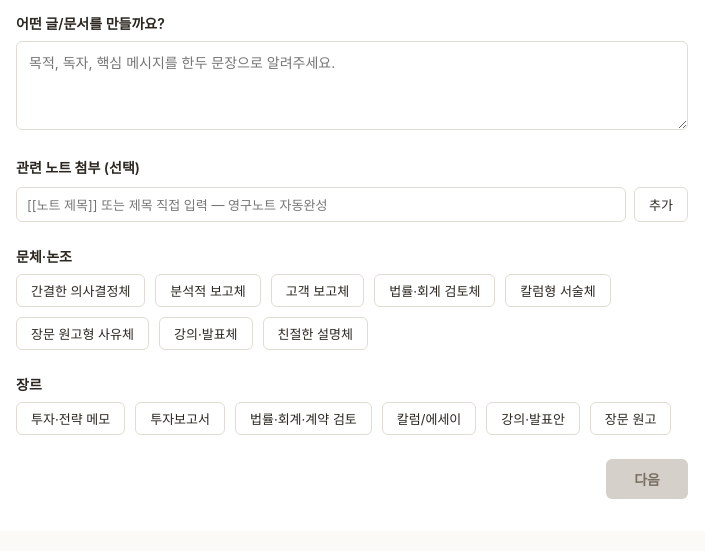
Test: Step1Seed — 노트 첨부 › 노트 입력 후 추가 버튼 클릭 시 chip이 나타난다
Replace the text in the field with test id "step1-note-input" with "[ [노트A]]" at (321, 205), box [16, 187, 626, 222]
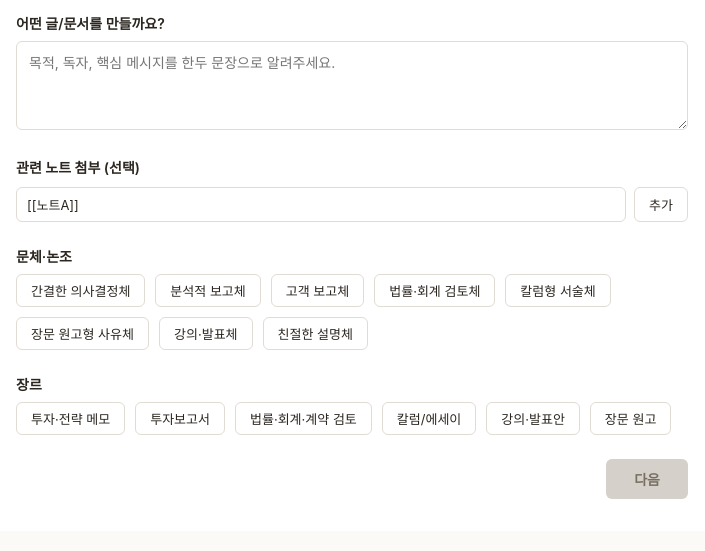
Click the button with test id "step1-note-add-btn" at (661, 205), box [634, 187, 688, 222]
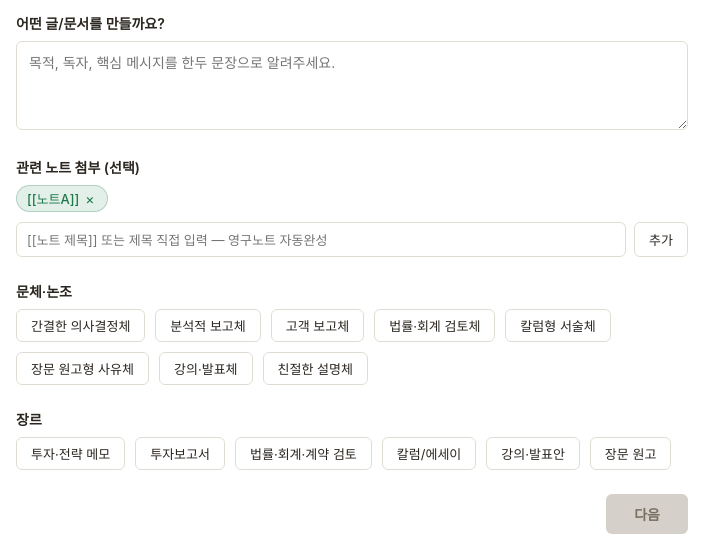
Check: the text "[ [노트A]]" is shown, box [27, 191, 79, 207]
Check: the field with test id "step1-note-input" is empty, box [16, 222, 626, 257]
